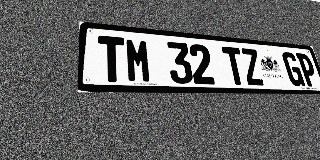2: (188, 43, 215, 84)
3: (167, 41, 194, 84)
G: (281, 52, 305, 86)
M: (125, 38, 152, 83)
P: (295, 53, 320, 87)
T: (98, 35, 126, 82), (221, 46, 247, 85)
Z: (239, 48, 265, 85)
